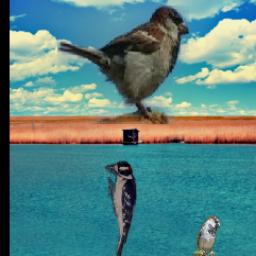Sparrow: (57, 5, 189, 124), (190, 216, 220, 256)
Woodpecker: (105, 158, 137, 256)
